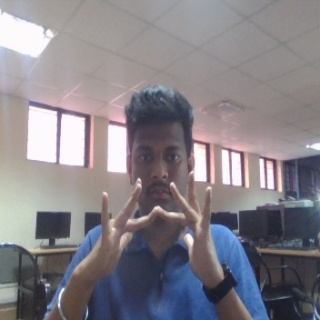Internet: (83, 169, 218, 290)
